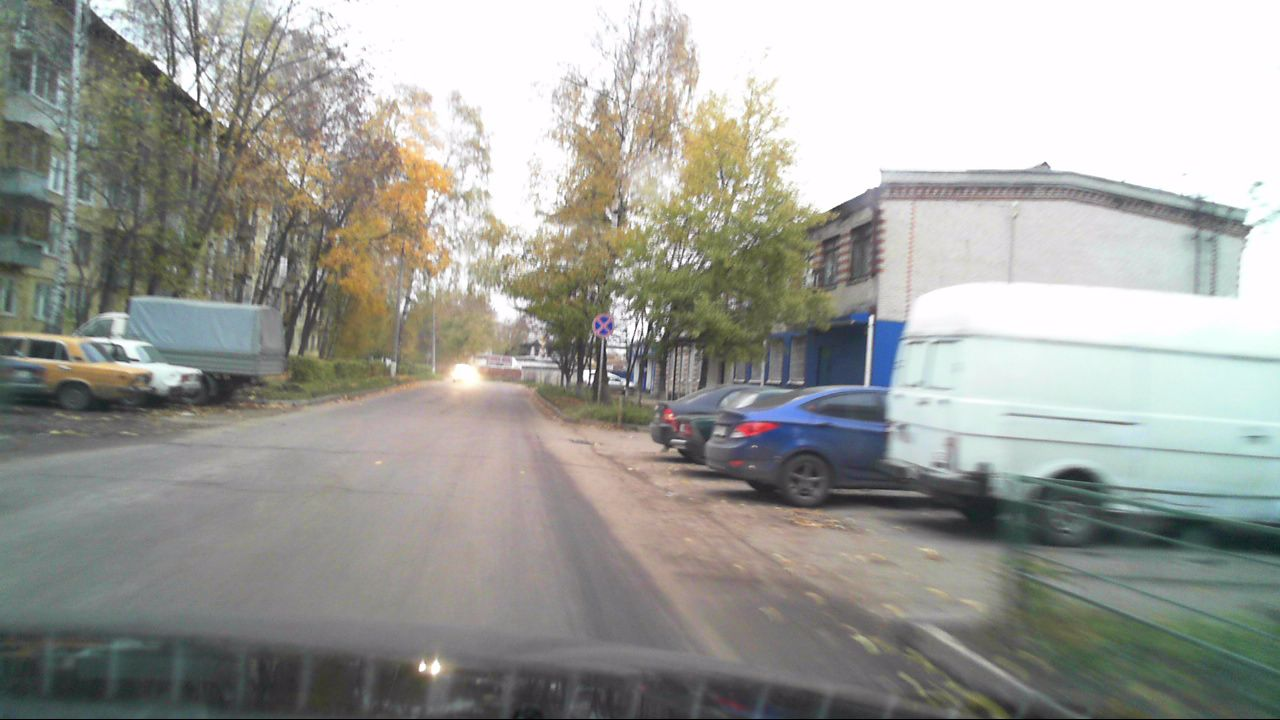No Parking: (591, 312, 615, 337)
